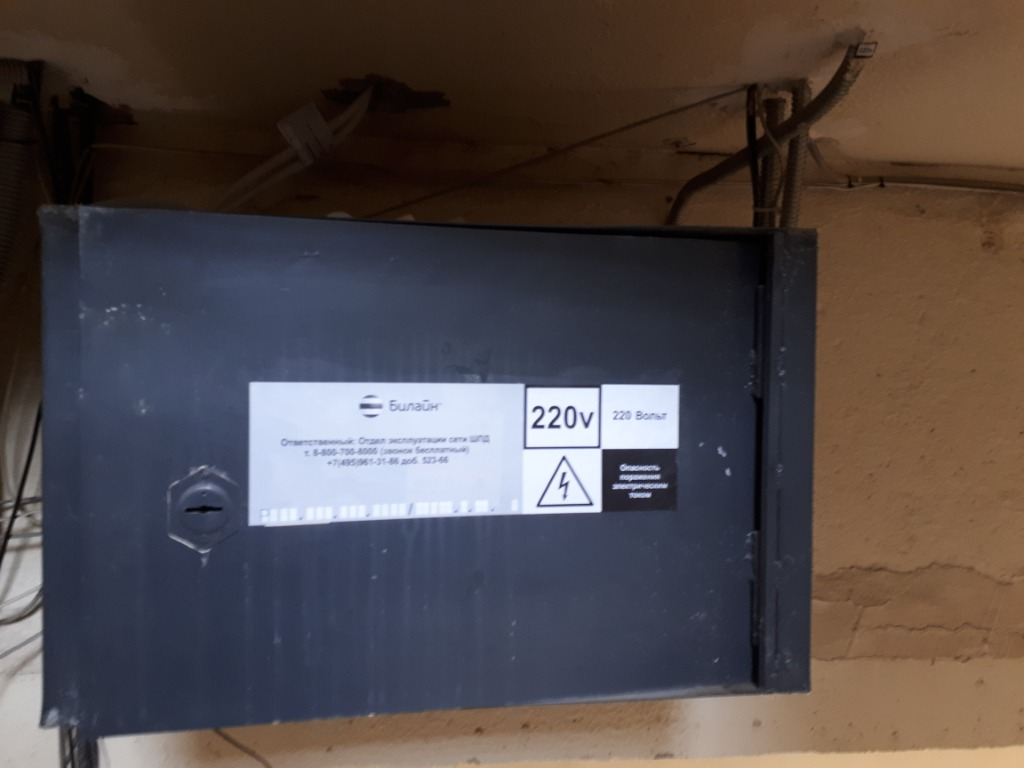e2-6u: (29, 192, 826, 740)
